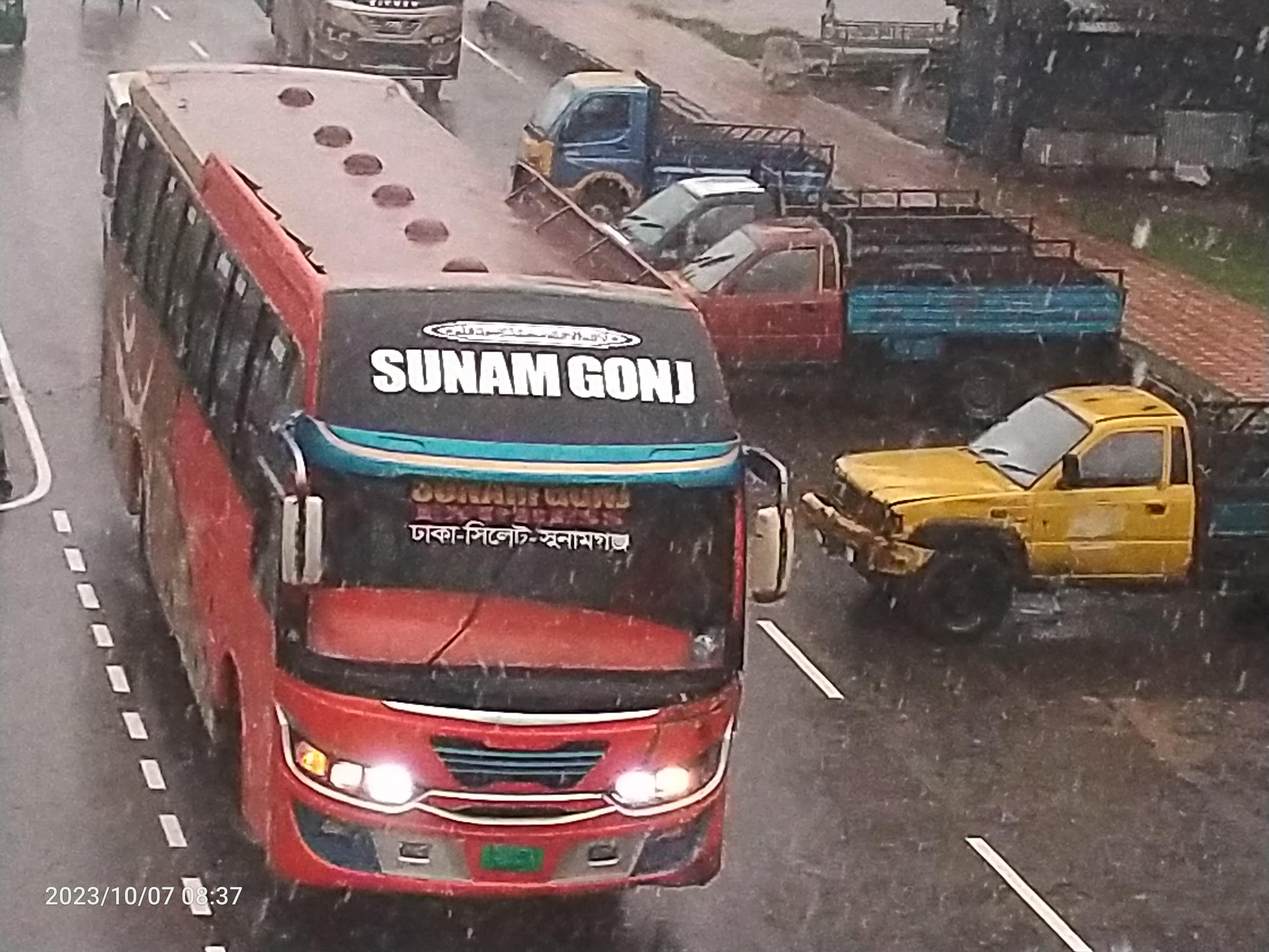Bus: (41, 39, 796, 947), (240, 0, 490, 124)
Truck: (796, 362, 1269, 686), (662, 198, 1187, 438), (497, 37, 863, 234), (602, 166, 1035, 284)
